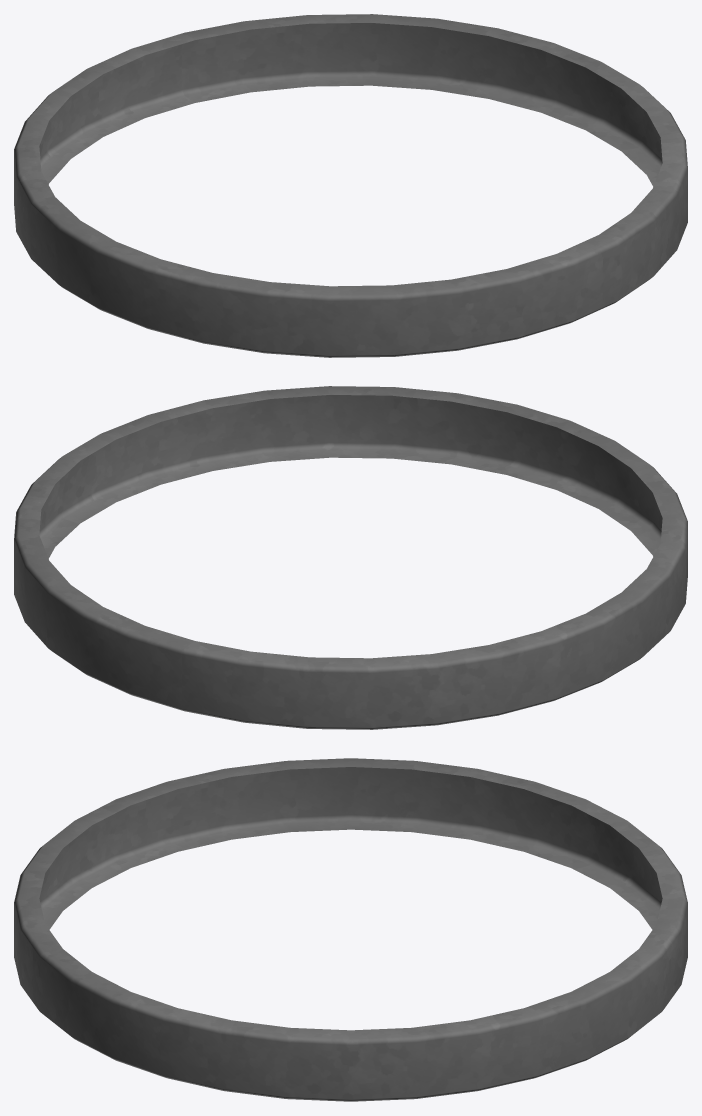
Rendered from Tower_TrimV1.fbx.
3 views of the same model, one above another, from view 1: azimuth 30°, elevation 25°; view 2: azimuth 150°, elevation 25°; view 3: azimuth 270°, elevation 25° (orthographic).
Visible parts, largest first — view 1: Tower_TrimV1; view 2: Tower_TrimV1; view 3: Tower_TrimV1.
Boxes of the visible parts, left/top/right/bottom form: Tower_TrimV1: left=14, top=14, right=687, bottom=357; Tower_TrimV1: left=14, top=386, right=687, bottom=729; Tower_TrimV1: left=14, top=758, right=687, bottom=1101.
Size of the model in its own units: 538 by 55.2 by 538.
1 material, 1 textured.
